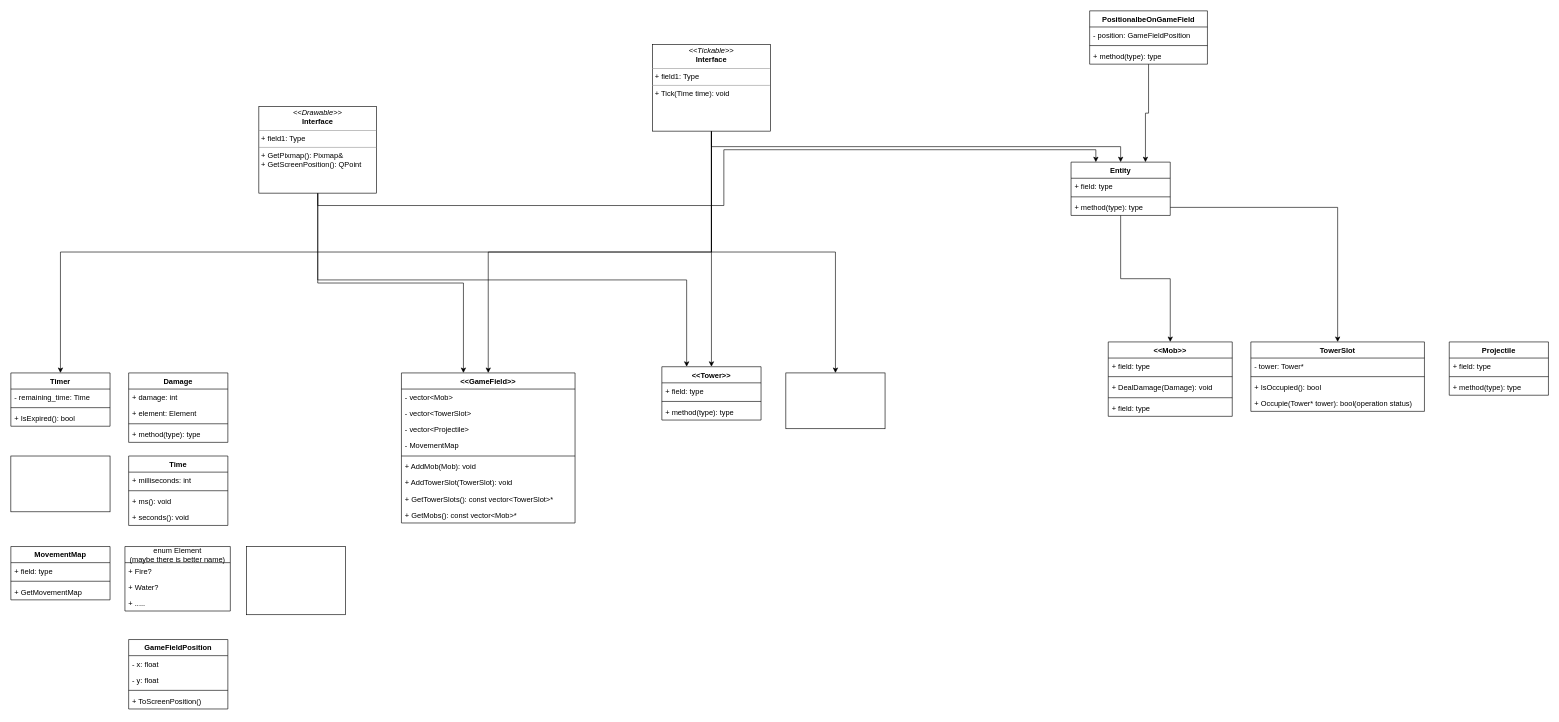
This 1559x722 diagram has some shape labels left out. The centre of each missing label's shape, as x and y in pixels:
"<<Level>> - game_filed: GameField + money + method(): Type" goes at point 835,400.
"enum AttackType + Magic + Mele + Ranged +...." goes at point 296,580.
"MovingAlgorithm + field: Type + method(): Type" goes at point 60,483.
